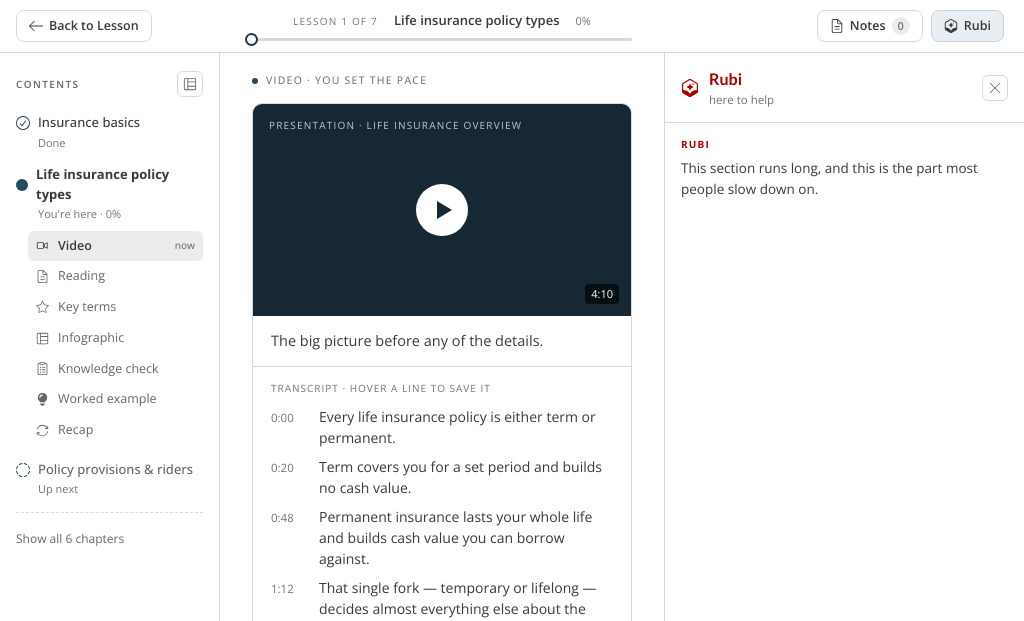
the Knowledge check › asks how sure you are BEFORE it shows the answer
This screenshot has width=1024, height=621.
Click the button "Knowledge check" at (116,369), box left=28, top=354, right=203, bottom=384
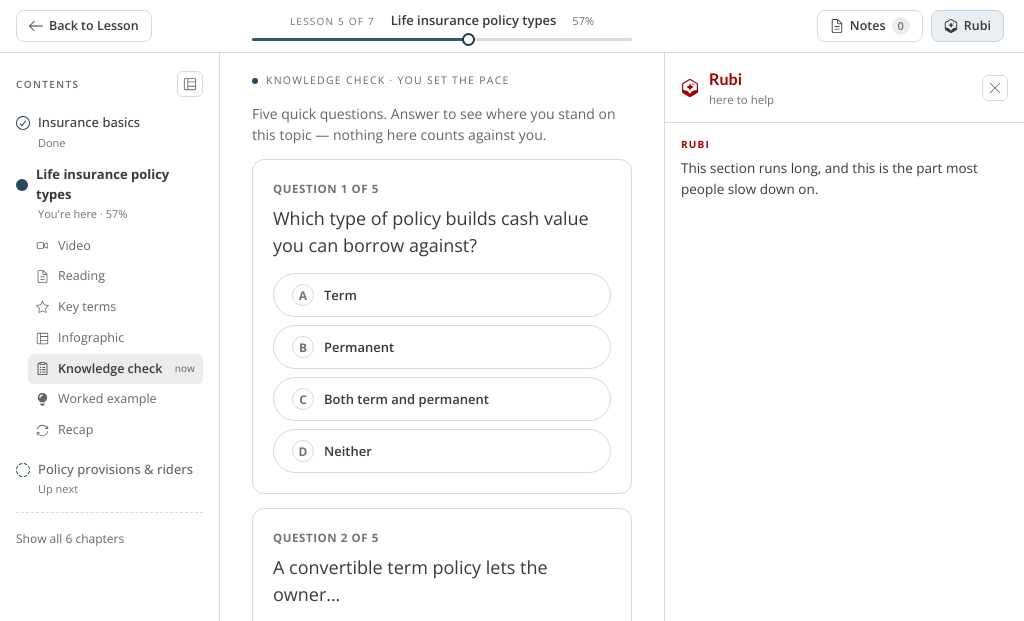
Click the button "A Term" at (340,294), box left=273, top=273, right=611, bottom=317
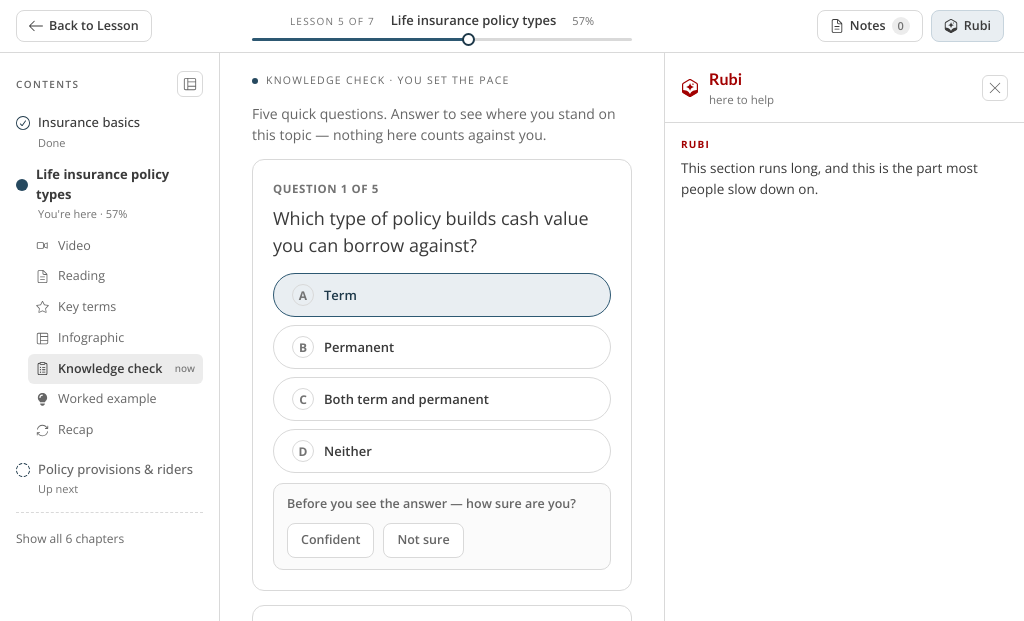
Expected: the text "Before you see the answer — how sure are you?" is shown, left=287, top=495, right=576, bottom=514
Click the button "Confident" at (331,540), box left=287, top=523, right=374, bottom=558
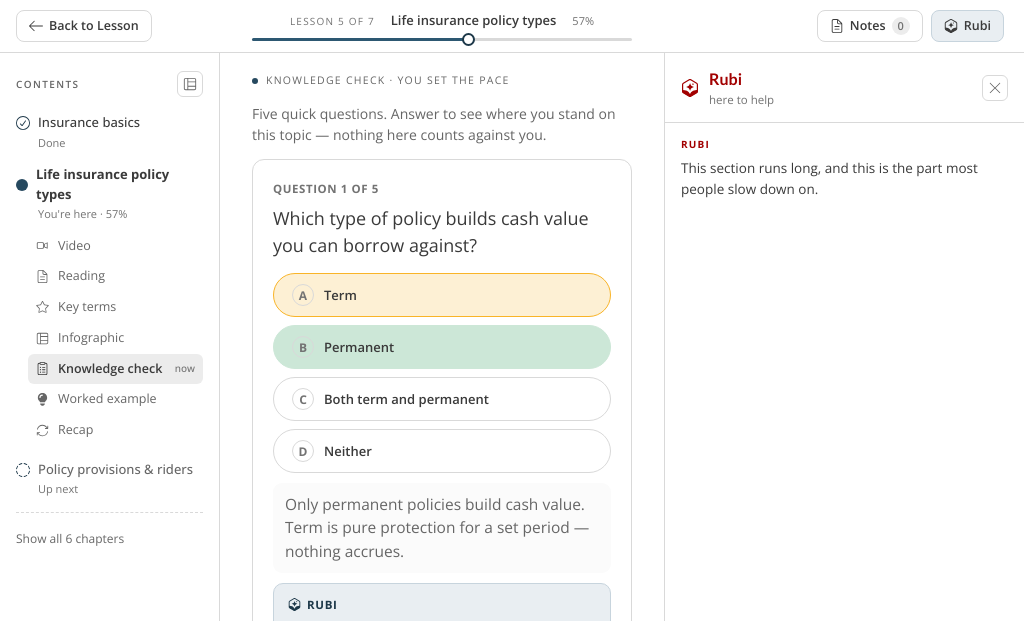
Expected: the text "Only permanent policies build cash value. Term is pure protection for a set period — nothing accrues." is shown, left=285, top=493, right=589, bottom=562
Expected: the text "Before you see the answer — how sure are you?" is gone
